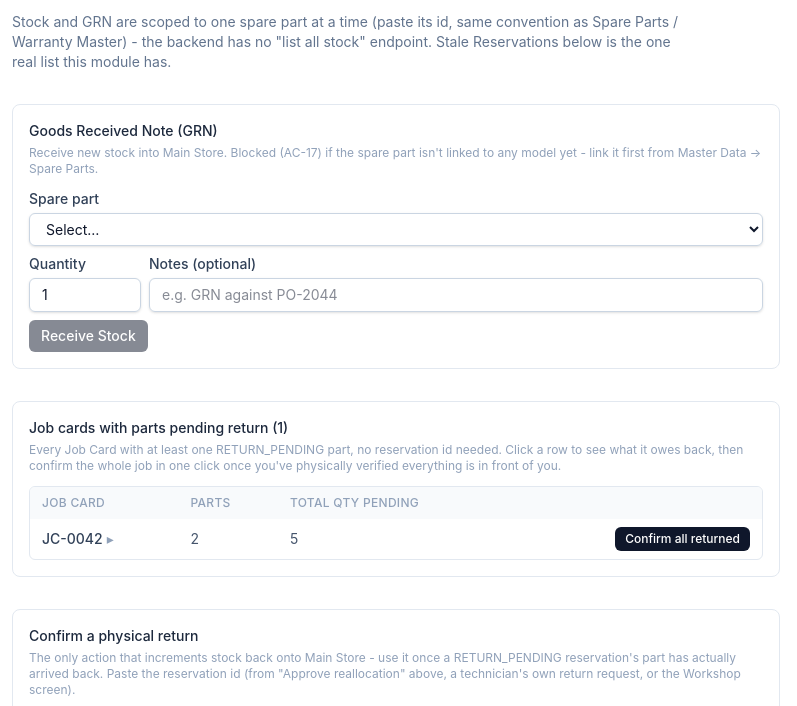
it: InventoryPage - returns dashboard (2026-09-14: no reservation id required) › expands a job card row on click to show each part and its custodian
What coordinates should you click on to do the following:
click the text "JC-0042"
I would click on:
 (104, 539)
Its box is x1=30 y1=519 x2=178 y2=559.
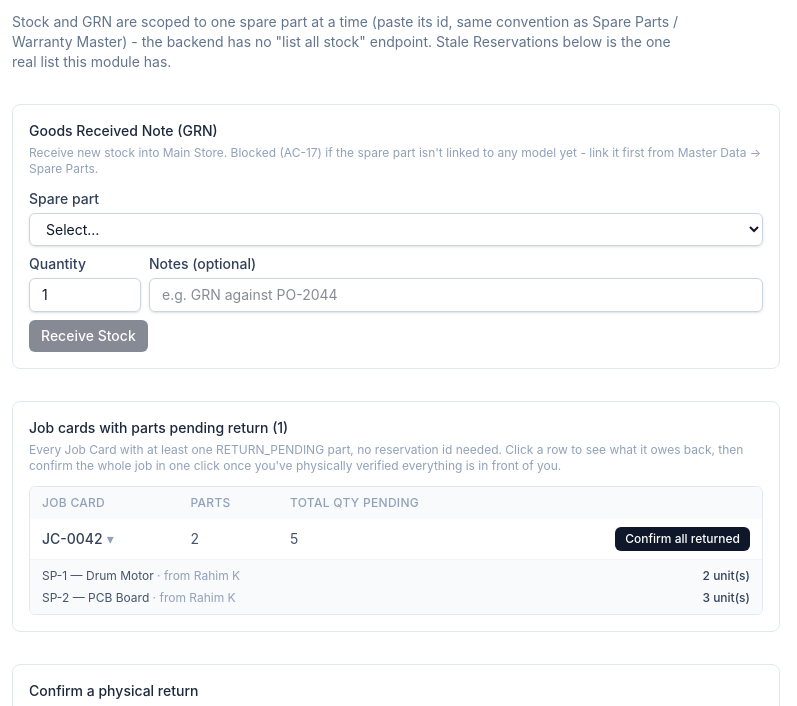
expect the text "SP-1 — Drum Motor · from Rahim K" is shown: met, box x1=42 y1=568 x2=240 y2=584
expect the text "SP-2 — PCB Board · from Rahim K" is shown: met, box x1=42 y1=590 x2=236 y2=606
expect the text "· from Rahim K" is shown 2 times: met, box x1=154 y1=568 x2=240 y2=583; x1=149 y1=590 x2=236 y2=605
